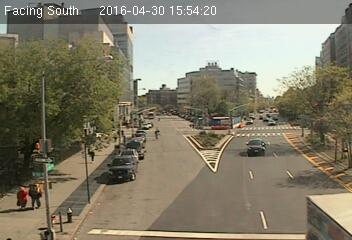neg: (207, 171, 234, 207), (259, 164, 282, 194), (98, 171, 117, 197), (281, 76, 300, 101), (178, 58, 197, 83), (160, 203, 179, 228), (158, 151, 176, 176), (121, 50, 139, 73), (201, 129, 218, 152), (245, 137, 262, 159), (217, 54, 233, 76), (62, 71, 78, 93), (108, 109, 124, 130), (133, 117, 148, 137), (69, 203, 83, 222), (302, 133, 316, 152), (172, 109, 185, 126), (122, 156, 134, 173)
pos: (11, 182, 32, 210), (27, 180, 47, 208), (83, 142, 99, 164)
